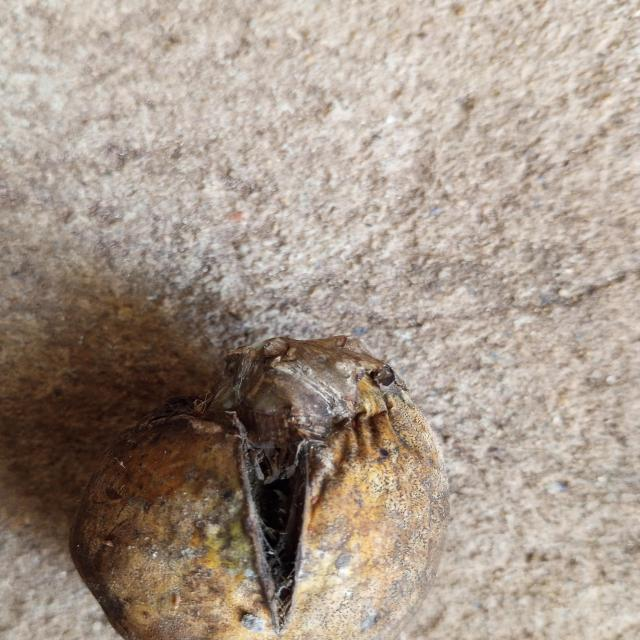damaged: (71, 336, 448, 640)
